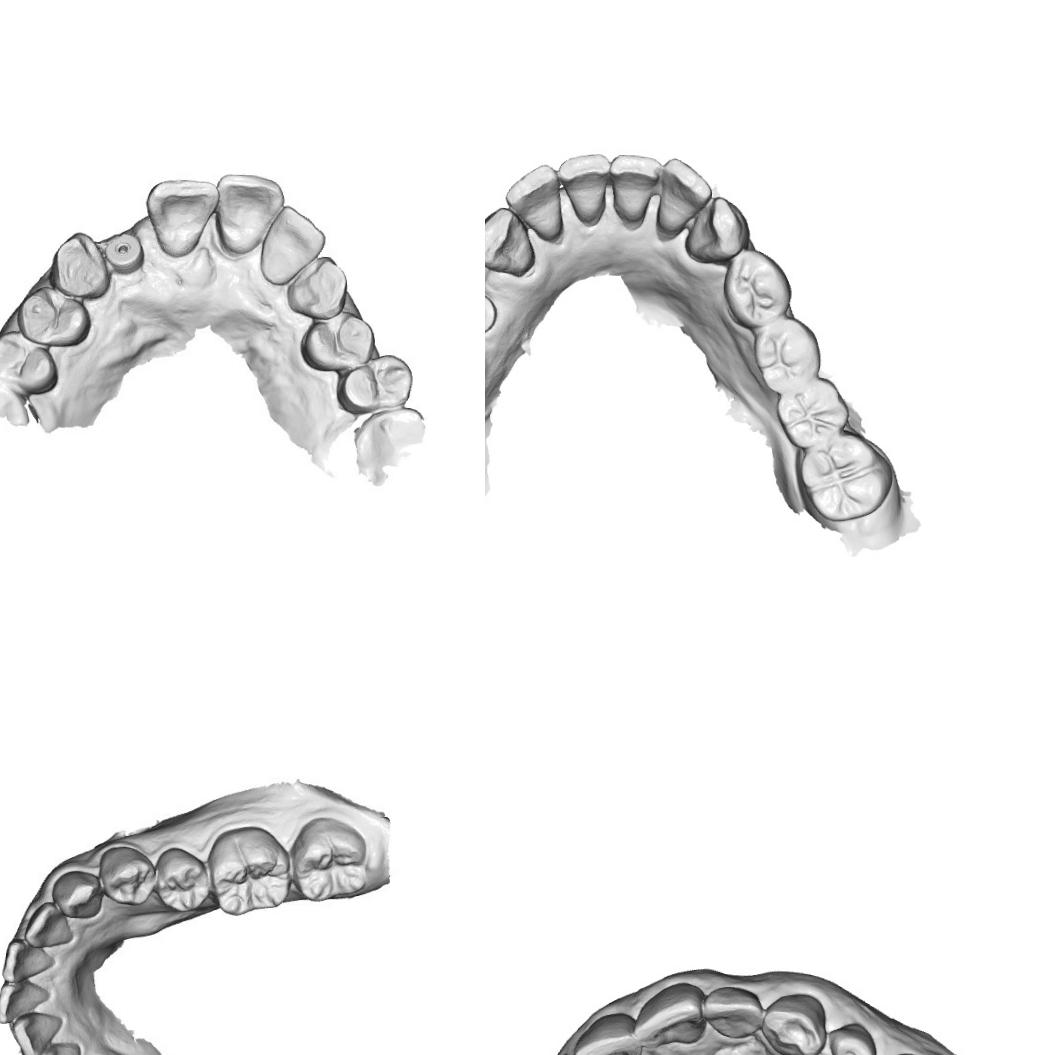canine: (282, 251, 355, 322), (681, 195, 751, 265), (48, 228, 112, 301), (485, 204, 544, 280), (764, 995, 825, 1054), (50, 868, 105, 921), (32, 1041, 83, 1055)
implant: (102, 232, 143, 272), (485, 291, 497, 331)
incisor: (255, 199, 332, 289), (212, 168, 288, 256), (143, 175, 217, 261), (503, 162, 566, 240), (654, 156, 712, 234), (637, 982, 707, 1046), (557, 150, 613, 226), (606, 149, 661, 226), (703, 985, 764, 1042), (571, 1009, 644, 1055), (22, 900, 80, 953), (1, 938, 56, 985), (0, 979, 52, 1028), (11, 1012, 63, 1055)
molar: (797, 430, 886, 526), (209, 824, 293, 916), (292, 816, 370, 902), (752, 312, 822, 392), (776, 376, 849, 450)
premolar: (722, 246, 790, 328), (334, 350, 413, 416), (300, 308, 376, 374), (95, 840, 154, 908), (19, 291, 89, 347), (0, 327, 58, 394), (158, 848, 210, 911), (807, 1024, 880, 1055)
